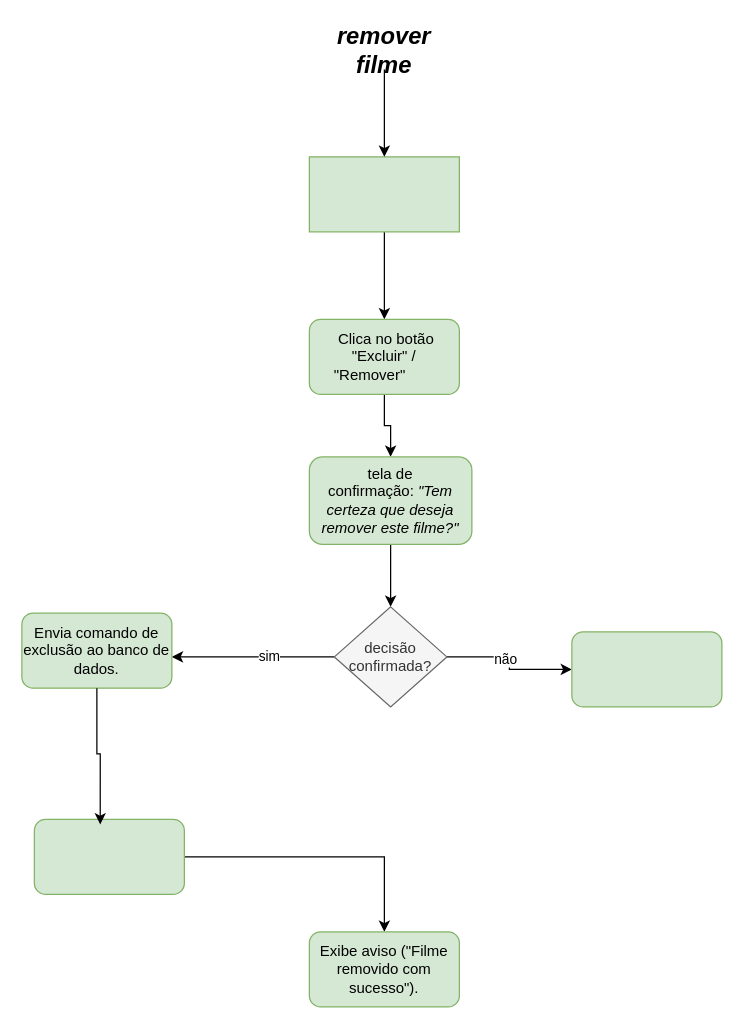
This 744x1029 diagram has some shape labels left out. The shapes that lost their labels are listed below. From the top down, each one's centre as x and y in pixels, then its label:
At [383,194]: "O usuário seleciona o filme no catálogo ou na tela de detalhes".
At [646,669]: "Cancela a ação e fecha a caixa de diálogo".
At [108,856]: "Remove o registro e atualiza a listagem".
